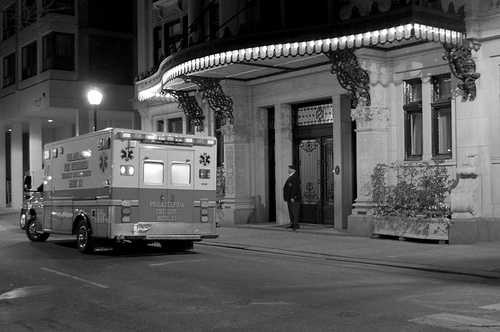Police Van: (23, 130, 223, 263)
